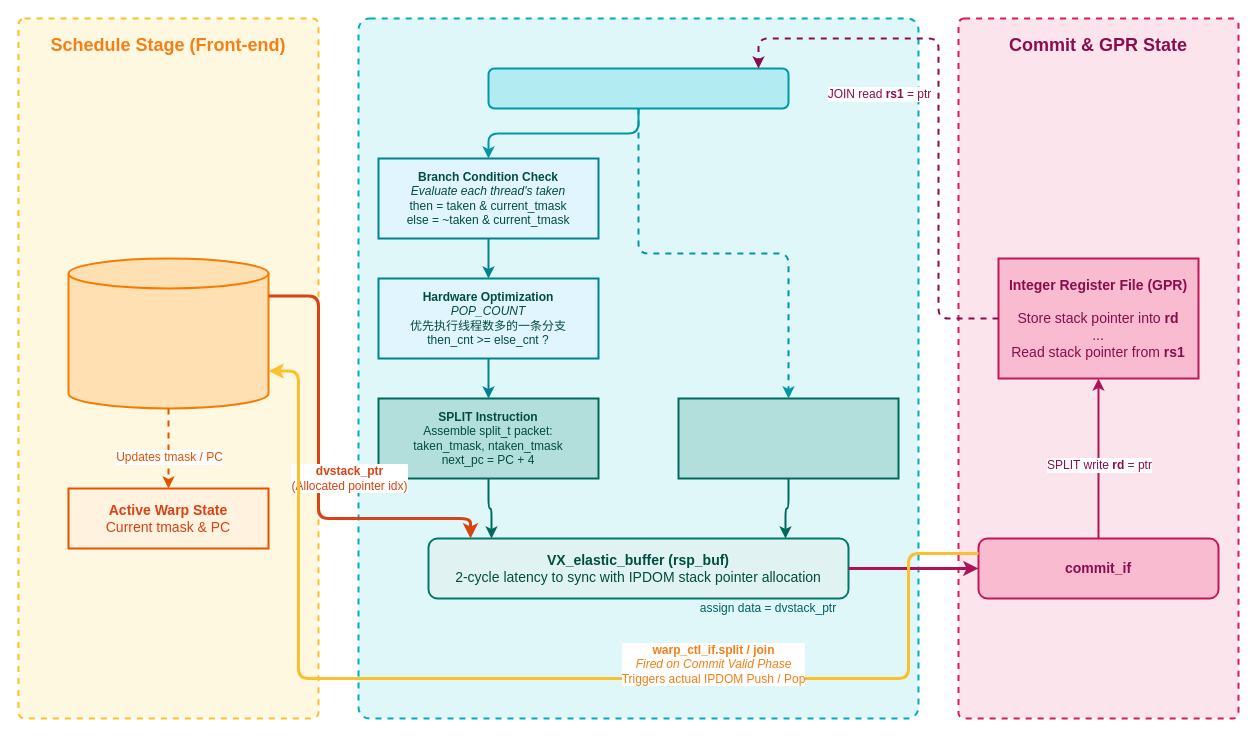
This 1256x736 diagram has some shape labels left out. Here are the shapes that lost their labels. From the top down, the box of each, then its label:
(487, 67, 789, 109): execute_if.data op_type, rs1_data, tmask, PC
(67, 257, 269, 409): VX_ipdom_stack Divergence Stack (Depth: NUM_THREADS-1) Stores: ntaken_tmask, PC
(357, 17, 919, 719): Execute Stage: VX_wctl_unit
(677, 397, 899, 479): JOIN Instruction Assemble join_t packet: stack_ptr = rs1_data (from GPR)
